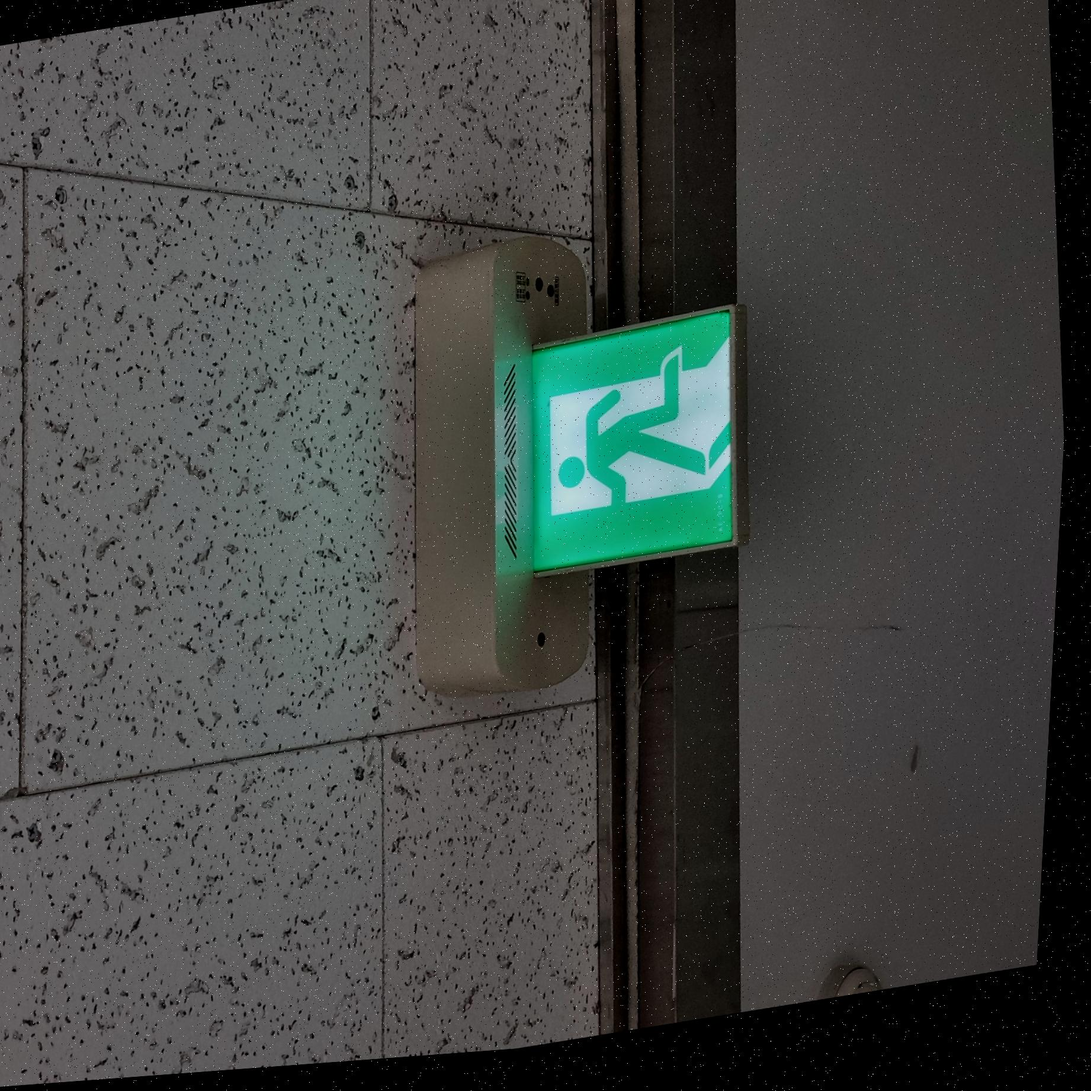emergency_exit: (527, 302, 742, 577)
